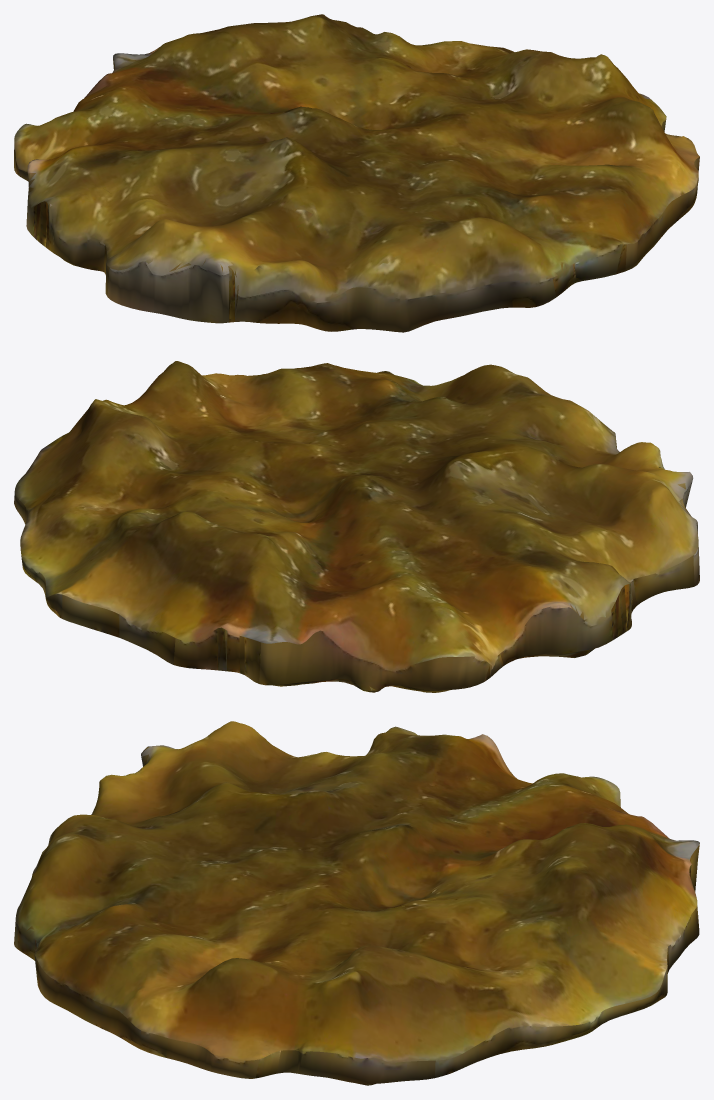
Rendered from sauce-relish.glb.
3 views of the same model, one above another, from view 1: azimuth 30°, elevation 25°; view 2: azimuth 150°, elevation 25°; view 3: azimuth 270°, elevation 25° (orthographic). The views are drawn at different scales.
Visible parts, largest first — view 1: sauce-relish; view 2: sauce-relish; view 3: sauce-relish.
Boxes of the visible parts, left/top/right/bottom form: sauce-relish: left=14, top=14, right=699, bottom=332; sauce-relish: left=14, top=361, right=699, bottom=692; sauce-relish: left=14, top=721, right=699, bottom=1085.
Size of the model in its own units: 8.47 by 1.53 by 8.01.
Materials: 1 (1 with a texture image).
